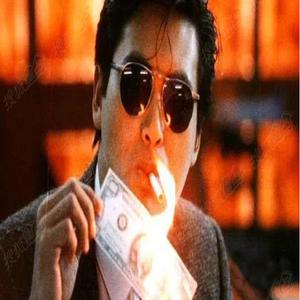cigarette: (150, 174, 164, 203)
